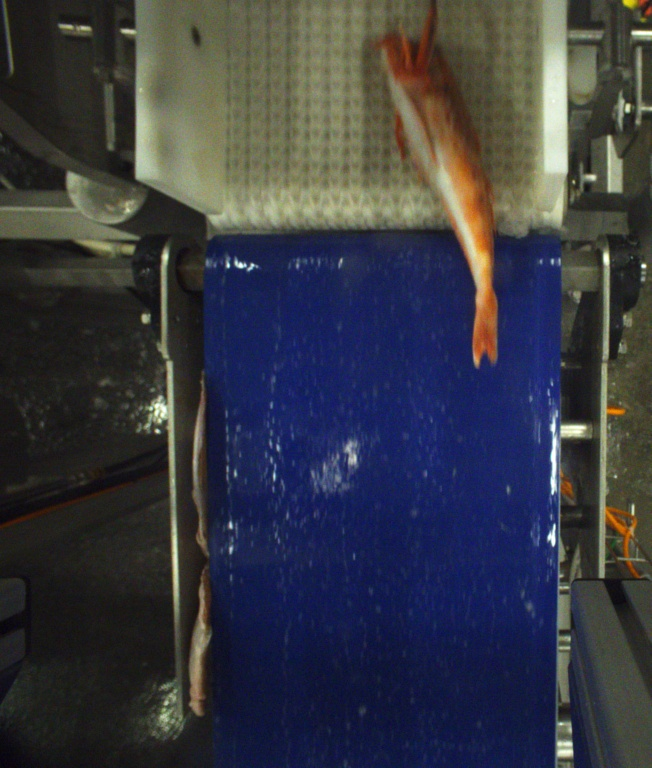GUU: (376, 0, 501, 371)
